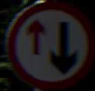Two way: (23, 10, 84, 68)
